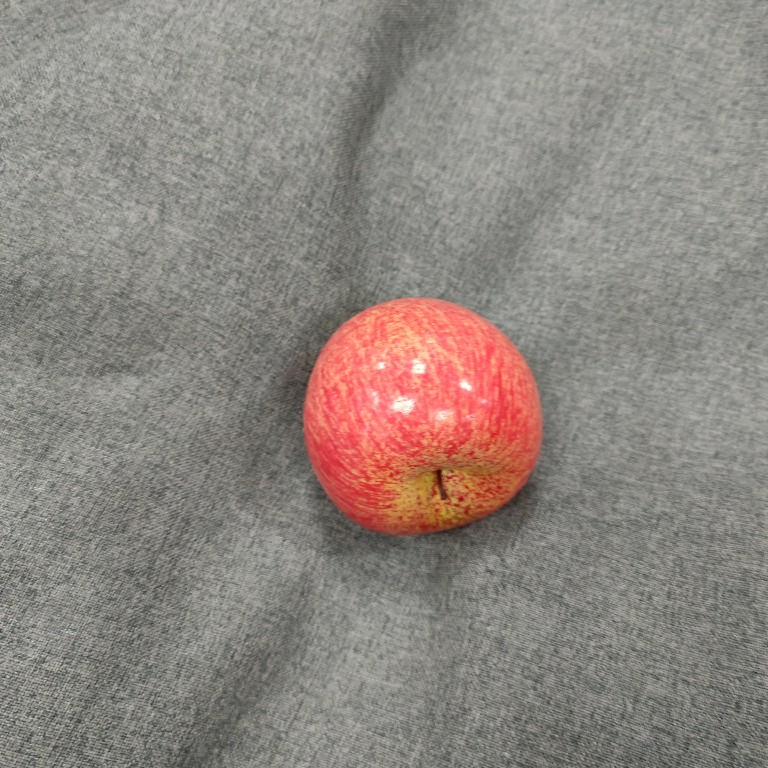fruit_apple: (295, 294, 550, 542)
